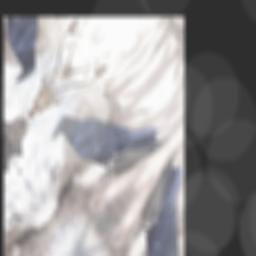Crow: (46, 56, 165, 218)
